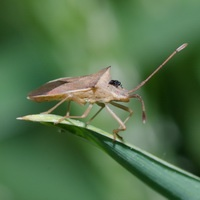insect: (17, 43, 187, 140)
